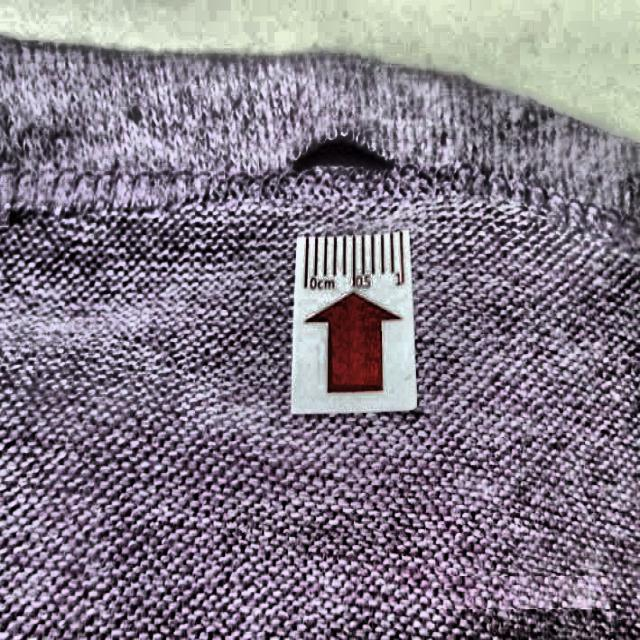seam: (255, 119, 426, 190)
